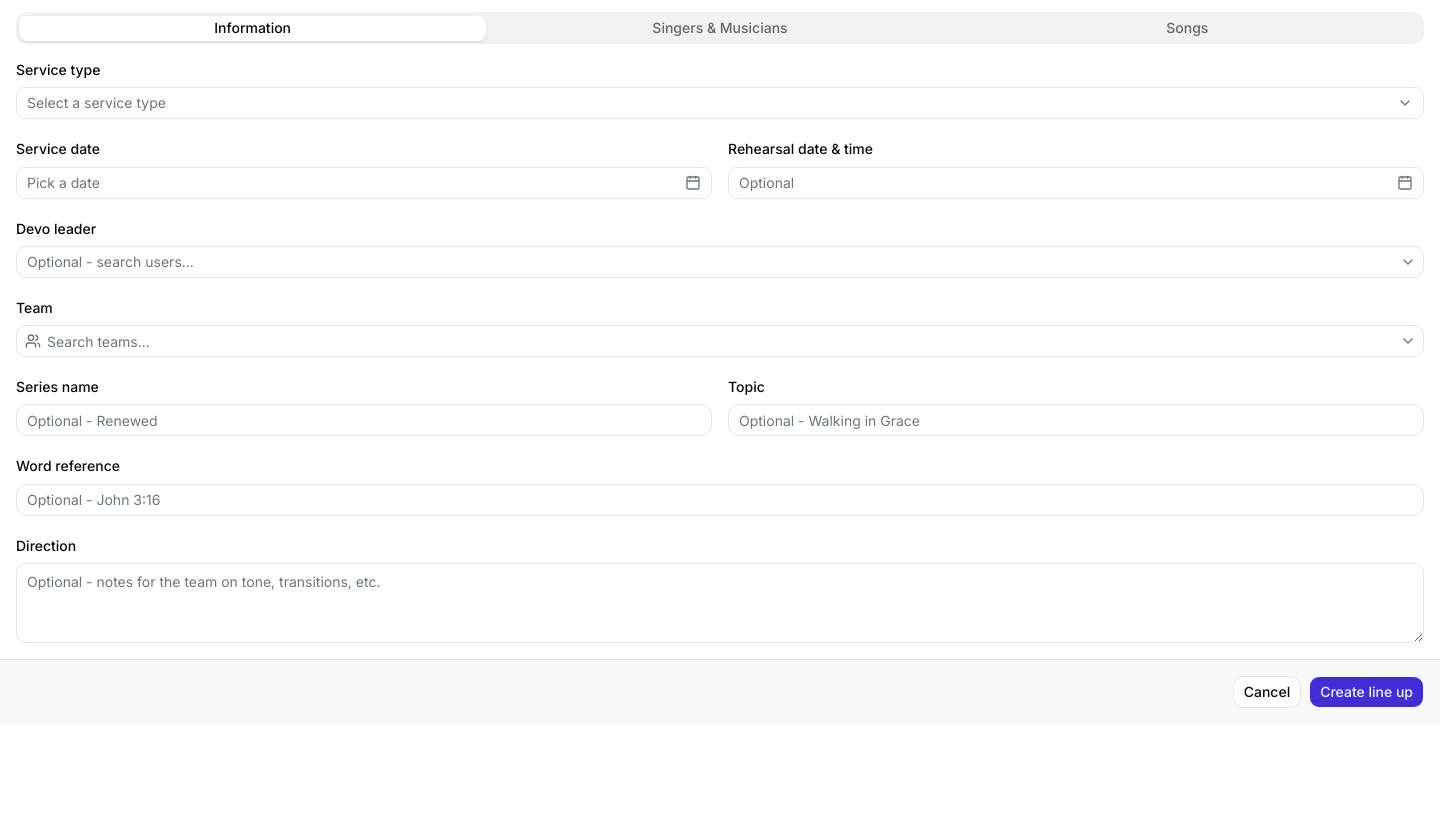
Scenario: CreateLineupForm › shows inline validation errors for the required fields and blocks submission
The width and height of the screenshot is (1440, 822).
Click the button "Create line up" at (1367, 692), box [1309,676,1424,708]
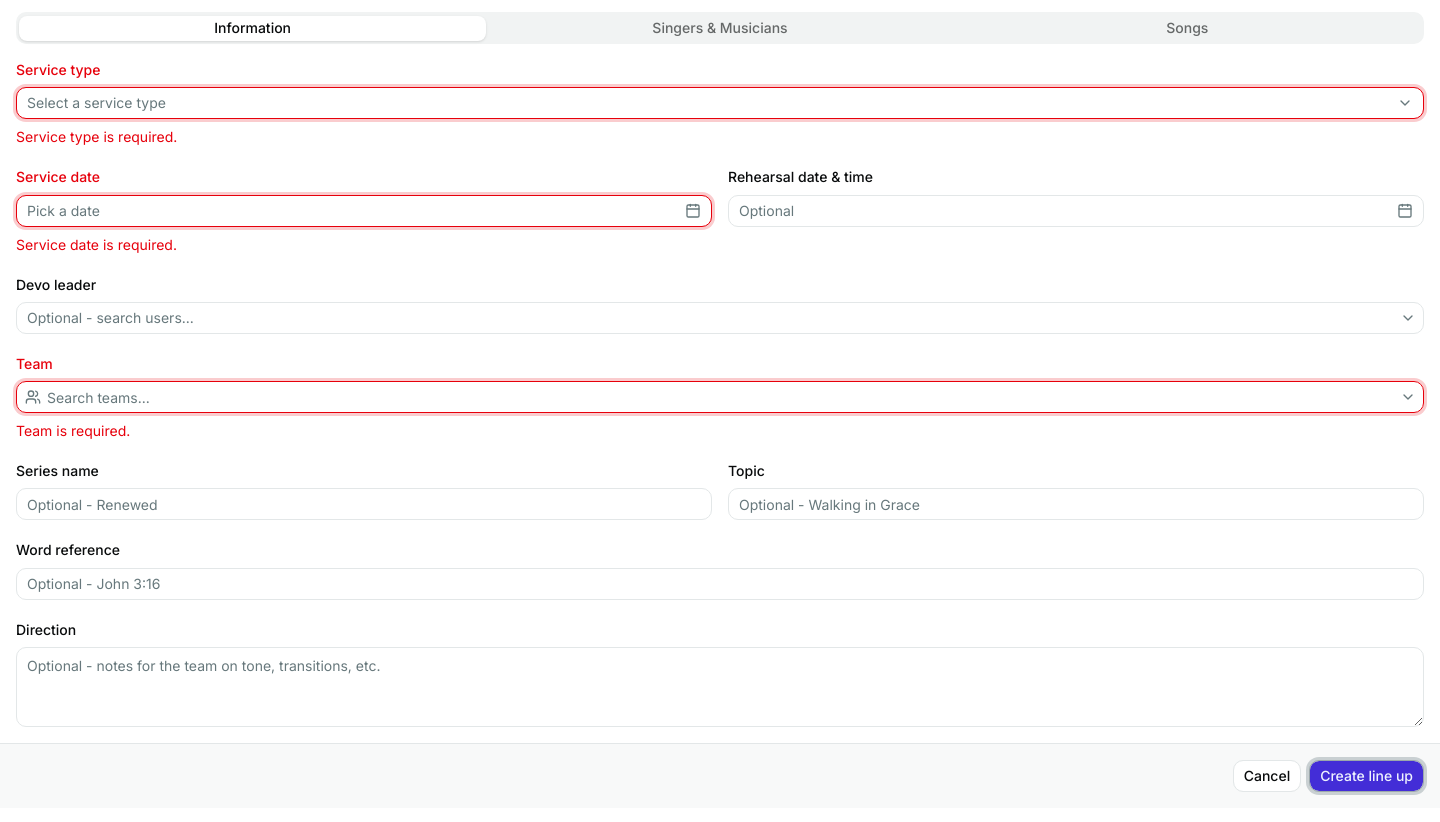
Expected: the text "Service type is required." is shown, [16,128,177,145]
Expected: the text "Service date is required." is shown, [16,236,177,252]
Expected: the text "Team is required." is shown, [16,422,130,439]
